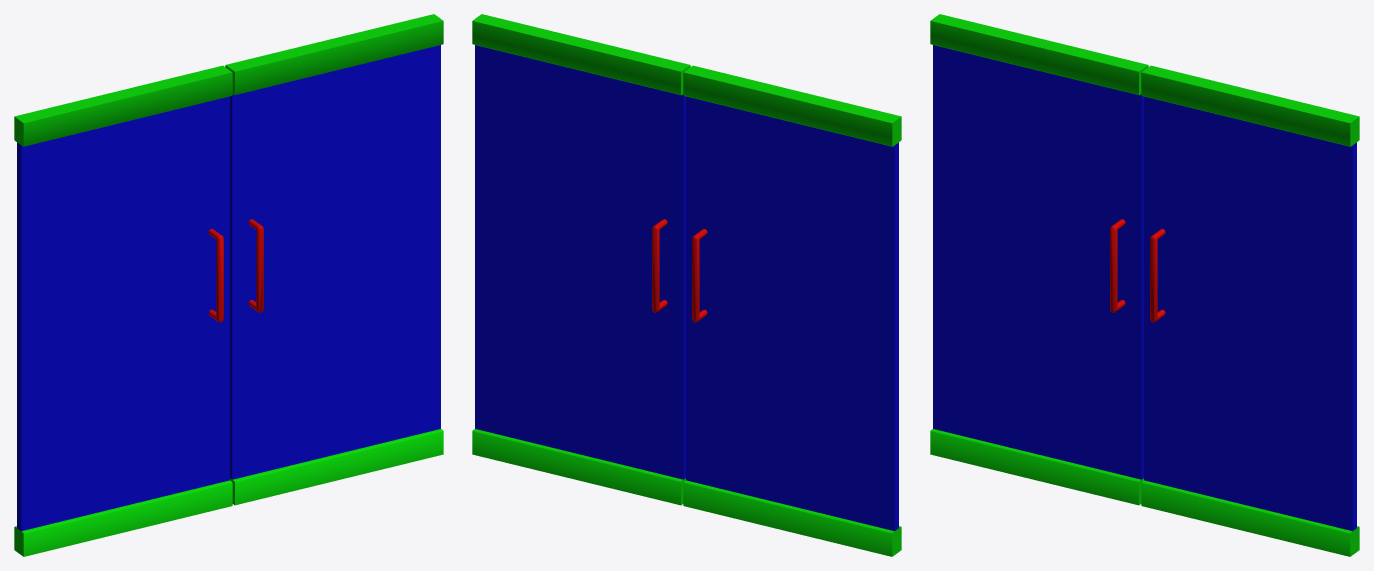
Rendered from Glass_Door.fbx.
3 views of the same model, side by side, from view 1: azimuth 30°, elevation 25°; view 2: azimuth 150°, elevation 25°; view 3: azimuth 330°, elevation 25° (orthographic).
Visible parts, largest first — view 1: Cube.239; view 2: Cube.239; view 3: Cube.239.
Boxes of the visible parts, x1,y1,x2,y2 form: Cube.239: (14, 14, 443, 556); Cube.239: (472, 14, 901, 556); Cube.239: (930, 14, 1359, 556).
Bounding box in the file's own units: 257 × 253 × 26.48.
